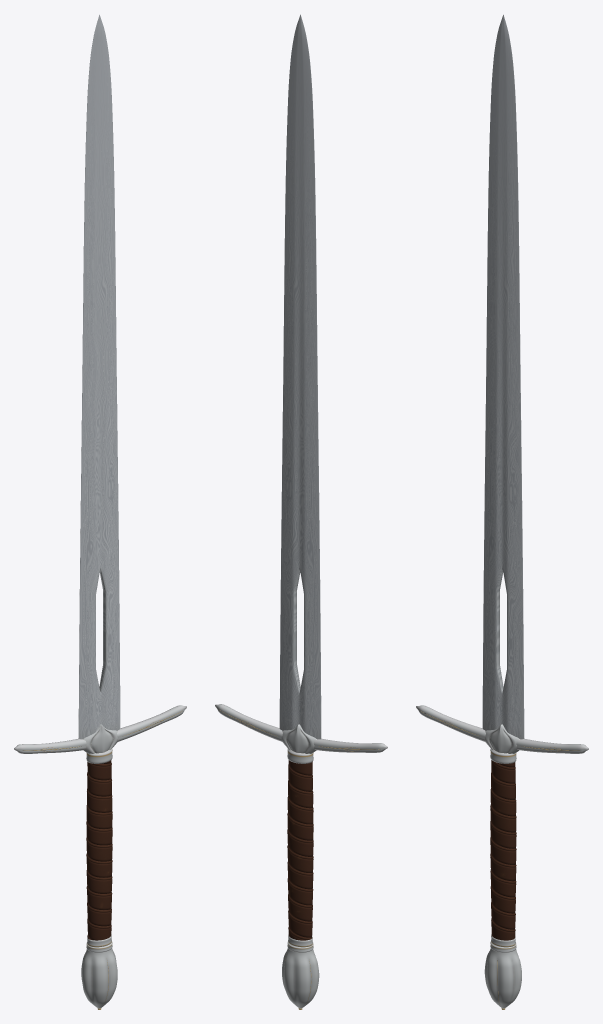
File: branch-sword-forest-v4.glb
The picture shows the model from 3 angles, left to right: view 1: azimuth 30°, elevation 25°; view 2: azimuth 150°, elevation 25°; view 3: azimuth 330°, elevation 25°; orthographic projection.
Visible parts, largest first — view 1: Blade, Grip, Guard, Pommel; view 2: Blade, Grip, Guard, Pommel; view 3: Blade, Grip, Guard, Pommel.
Boxes of the visible parts, bbox=[...] form: Blade: bbox=[78, 14, 120, 739]; Grip: bbox=[86, 760, 112, 947]; Guard: bbox=[14, 705, 186, 763]; Pommel: bbox=[81, 941, 117, 1009]; Blade: bbox=[279, 14, 321, 739]; Grip: bbox=[287, 760, 313, 947]; Guard: bbox=[215, 704, 387, 763]; Pommel: bbox=[282, 941, 319, 1009]; Blade: bbox=[482, 14, 524, 739]; Grip: bbox=[490, 760, 516, 947]; Guard: bbox=[416, 705, 588, 763]; Pommel: bbox=[484, 941, 521, 1009].
Bounding box in the file's own units: 0.23 × 1.27 × 0.0388.
Materials: 8 (4 with a texture image).
